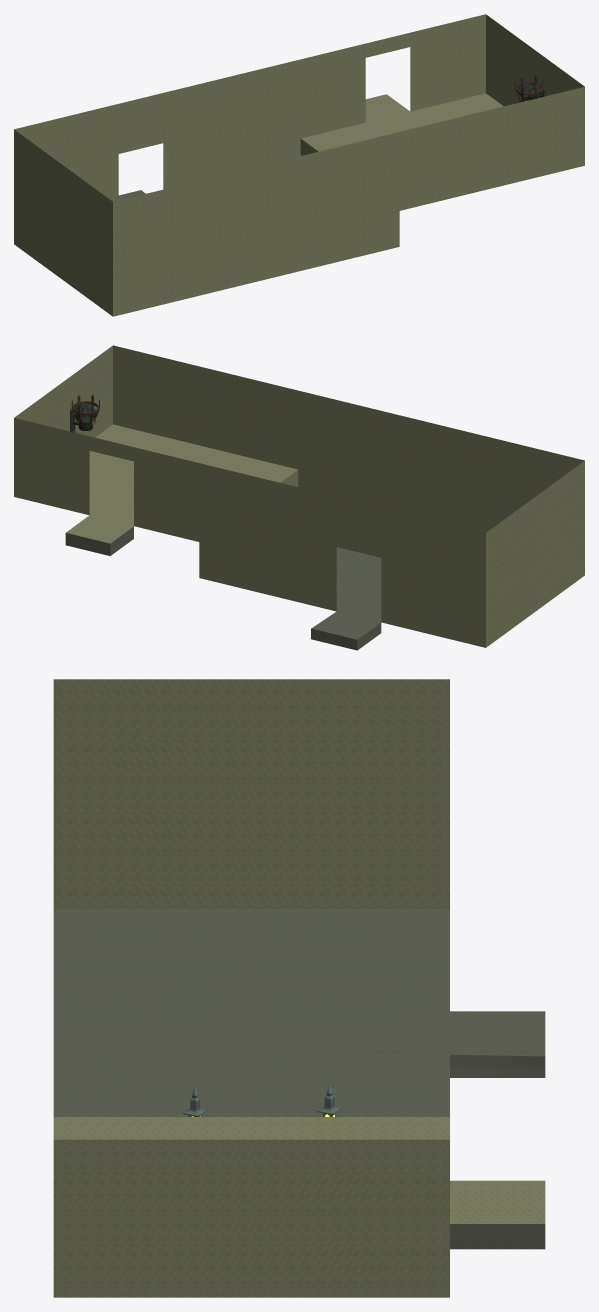
File: 05_HuntingLevel4.fbx
3 renders of one model, top to bottom at view 1: azimuth 30°, elevation 25°; view 2: azimuth 150°, elevation 25°; view 3: azimuth 270°, elevation 25°, orthographic. The views are drawn at different scales.
Parts seen in each view (by area): view 1: ROOM_Right; view 2: ROOM_Right; view 3: ROOM_Right.
Boxes of the visible parts, left/top/right/bottom form: ROOM_Right: left=14, top=14, right=584, bottom=316; ROOM_Right: left=14, top=345, right=584, bottom=650; ROOM_Right: left=53, top=679, right=545, bottom=1297.
Bounding box in the file's own units: 6875 × 1750 × 3100.
